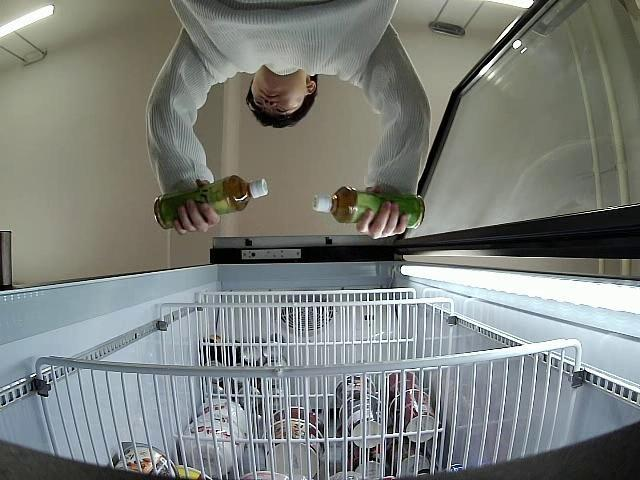19_17cha: (152, 176, 272, 232), (312, 188, 426, 233)
